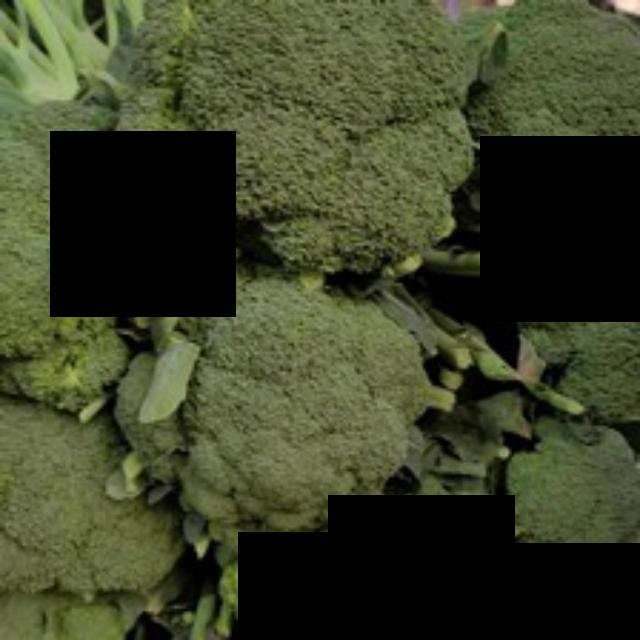broccoli: (115, 0, 483, 275)
